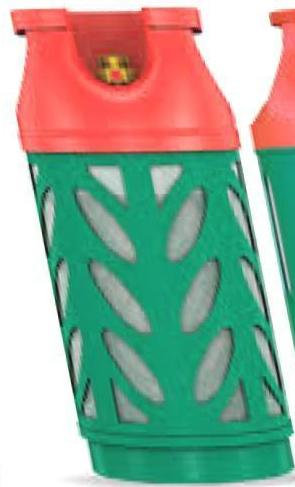cylinder: (1, 1, 295, 487)
